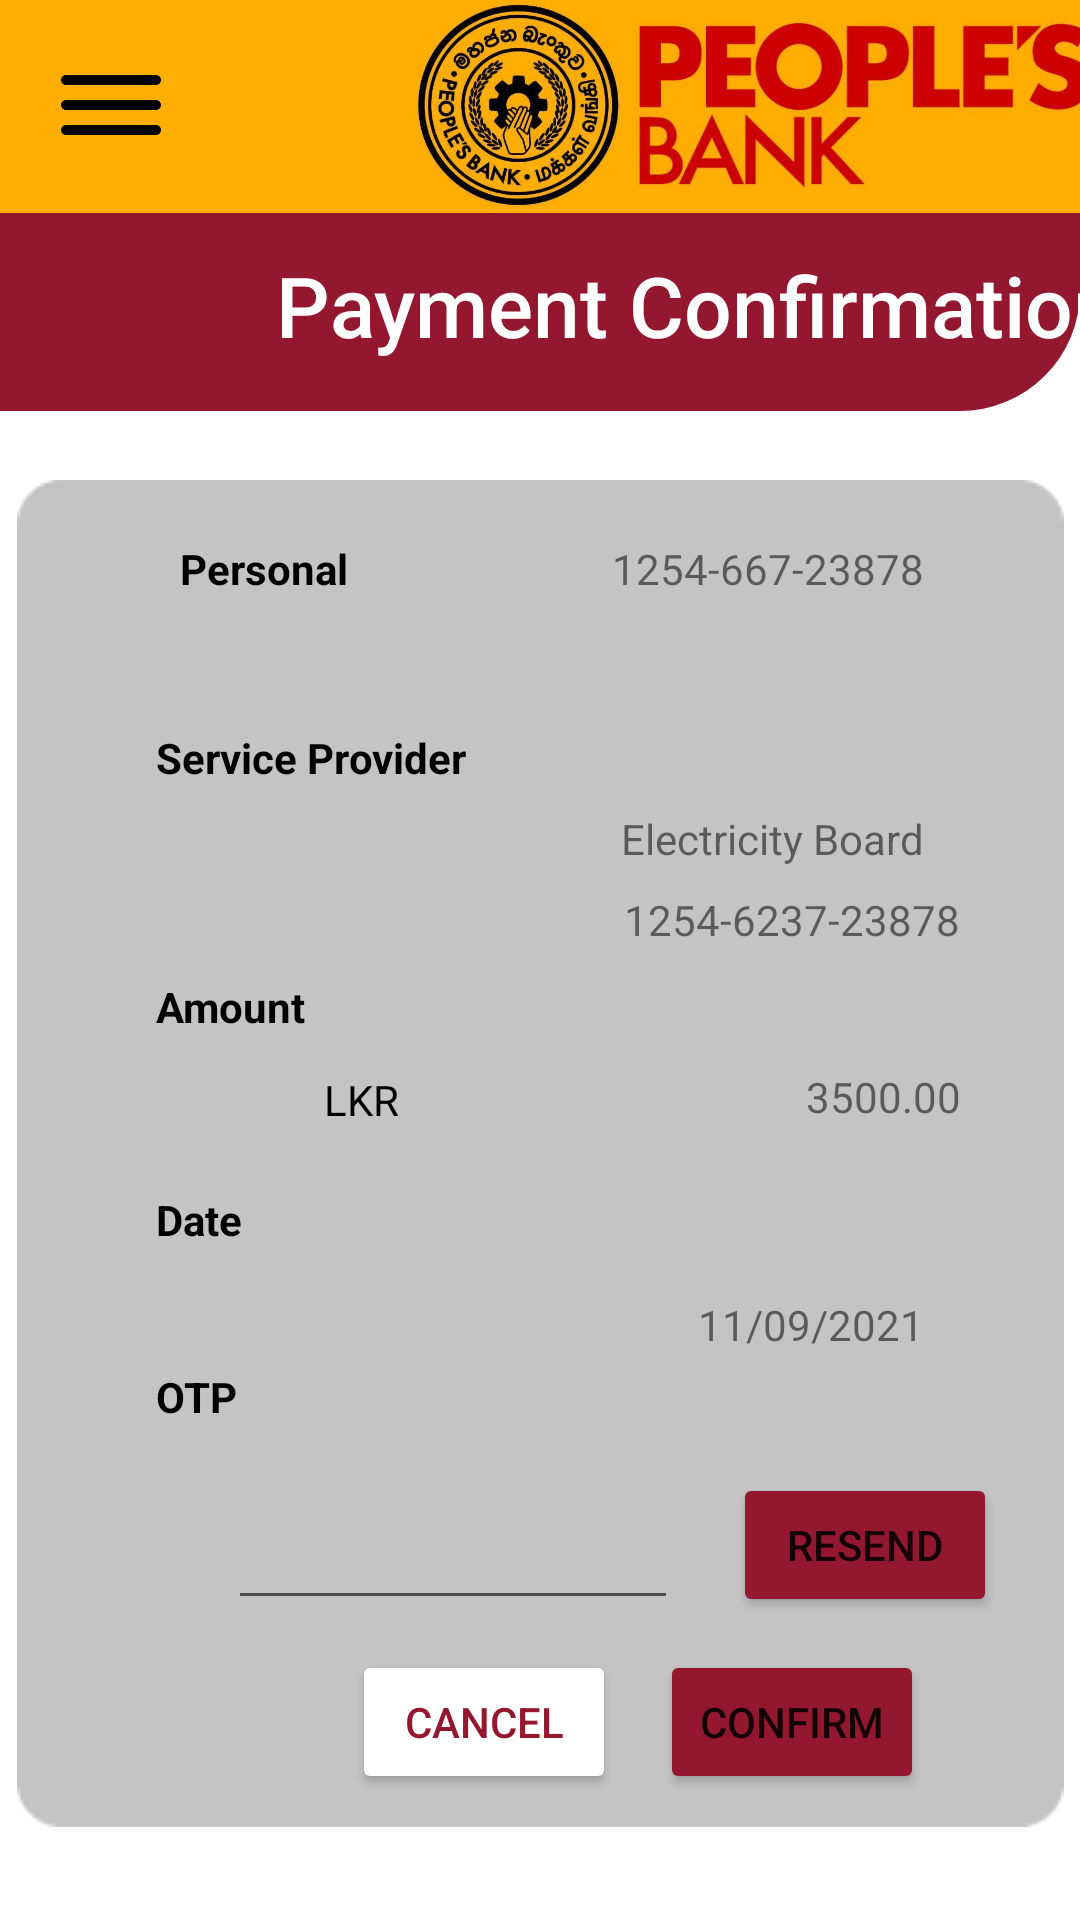

Icon click points for this 1080w x 1920h phone screenshot, format (x=x, y=y):
image for hambergur menu: (x=111, y=105)
